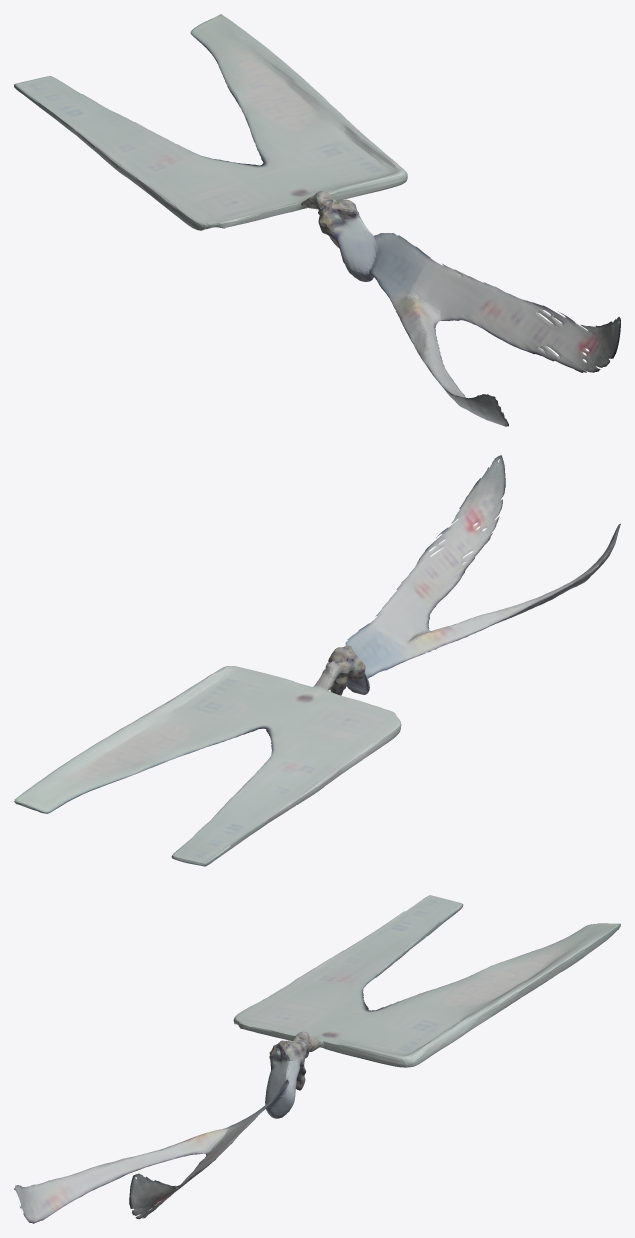
File: lanyard-strap-only.glb
The picture shows the model from 3 angles, top to bottom: view 1: azimuth 30°, elevation 25°; view 2: azimuth 150°, elevation 25°; view 3: azimuth 330°, elevation 25°; orthographic projection. The views are drawn at different scales.
Visible parts, largest first — view 1: geometry_0; view 2: geometry_0; view 3: geometry_0.
Part boxes in pixels (box(x1,y1,x2,y2)): geometry_0: box(14, 14, 620, 426); geometry_0: box(14, 455, 620, 866); geometry_0: box(14, 895, 620, 1223).
Bounding box in the file's own units: 0.2757 × 0.117 × 1.
